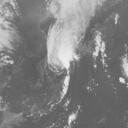cyclone: (47, 32, 75, 69)
